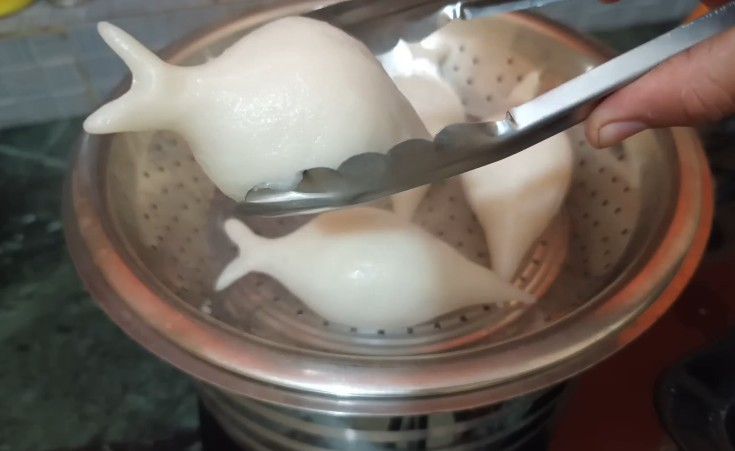yomari: (85, 11, 360, 163), (207, 208, 537, 322), (491, 164, 566, 275)
